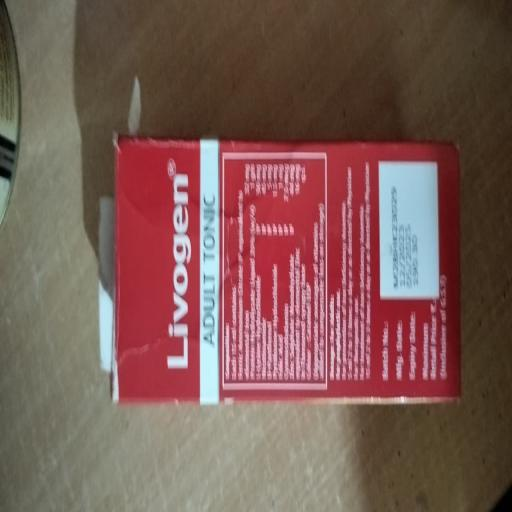Livogen: (77, 95, 466, 426)
